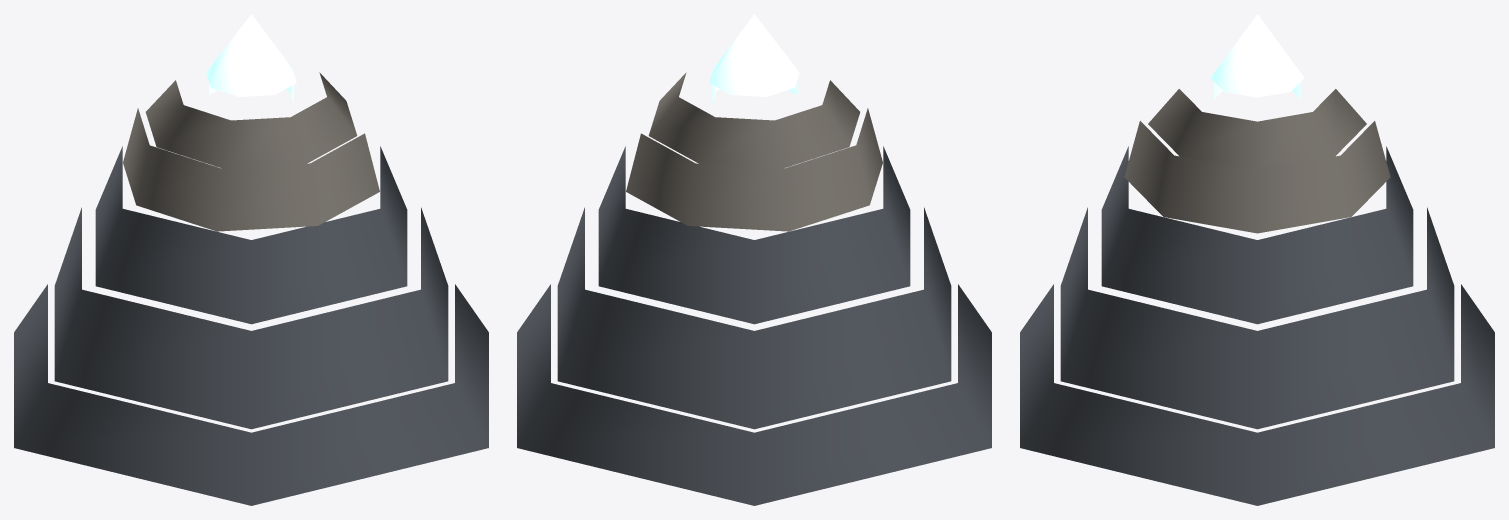
File: vasuki_shrine_pedestal.glb
3 views of the same model, side by side, from view 1: azimuth 30°, elevation 25°; view 2: azimuth 150°, elevation 25°; view 3: azimuth 270°, elevation 25° (orthographic).
Visible parts, largest first — view 1: RootNode; view 2: RootNode; view 3: RootNode.
Part boxes in pixels (x1,y1,x2,y2): RootNode: (14, 14, 488, 505); RootNode: (517, 14, 991, 505); RootNode: (1020, 14, 1494, 505).
Bounding box in the file's own units: 3.5 × 2.65 × 3.03.
